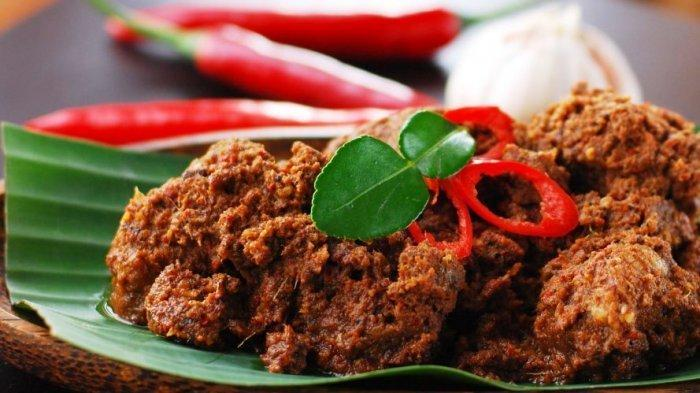rendang: (70, 77, 700, 379)
